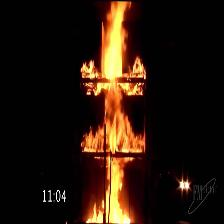fire: (95, 4, 133, 224)
